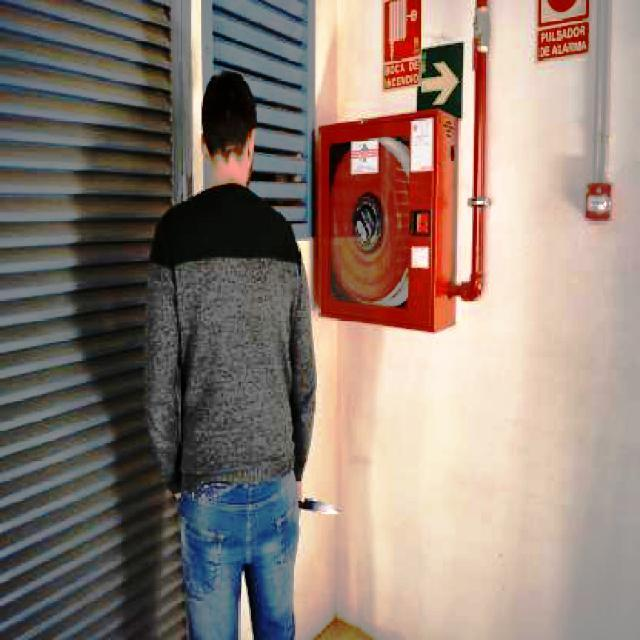Knife: (296, 489, 345, 522)
